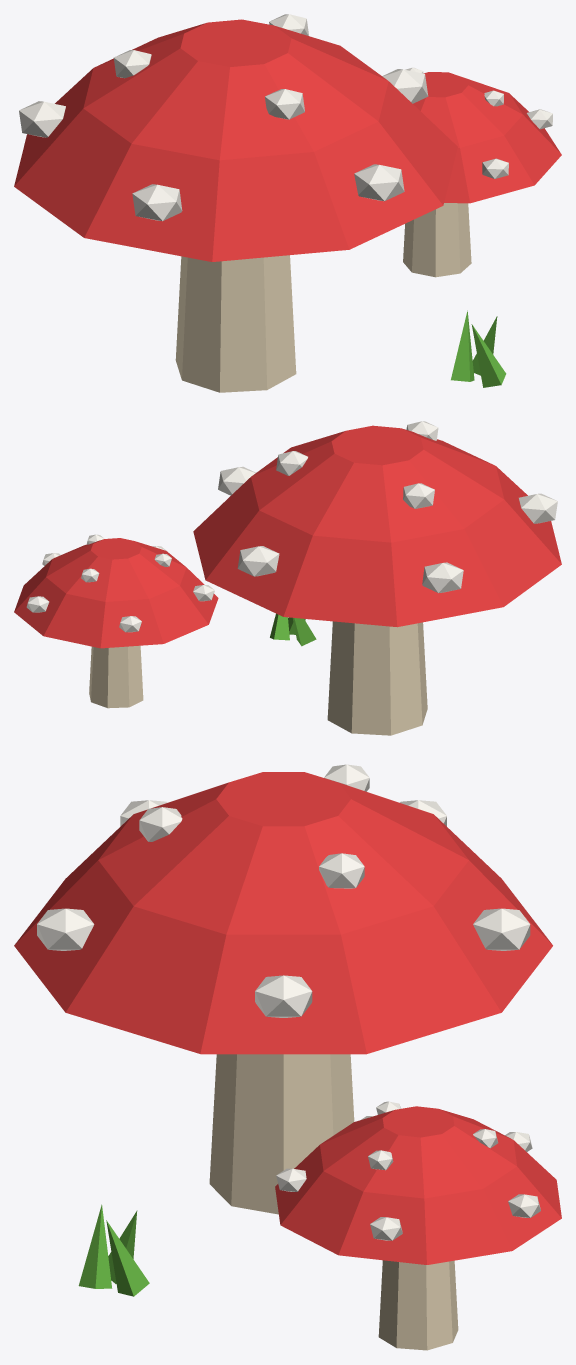
The model's file is Mushrooms.fbx.
3 views of the same model, one above another, from view 1: azimuth 30°, elevation 25°; view 2: azimuth 150°, elevation 25°; view 3: azimuth 270°, elevation 25° (orthographic). The views are drawn at different scales.
Visible parts, largest first — view 1: Mushrooms; view 2: Mushrooms; view 3: Mushrooms.
Part boxes in pixels (left/top/right/bottom): Mushrooms: left=14, top=14, right=561, bottom=392; Mushrooms: left=14, top=421, right=561, bottom=735; Mushrooms: left=14, top=764, right=561, bottom=1350.
Size of the model in its own units: 6.75 by 3.82 by 4.88.
1 material, 1 textured.
